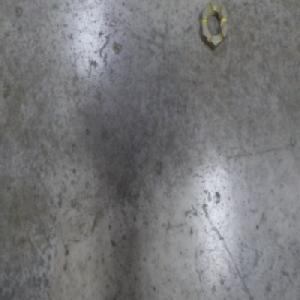Nut: (199, 0, 229, 52)
